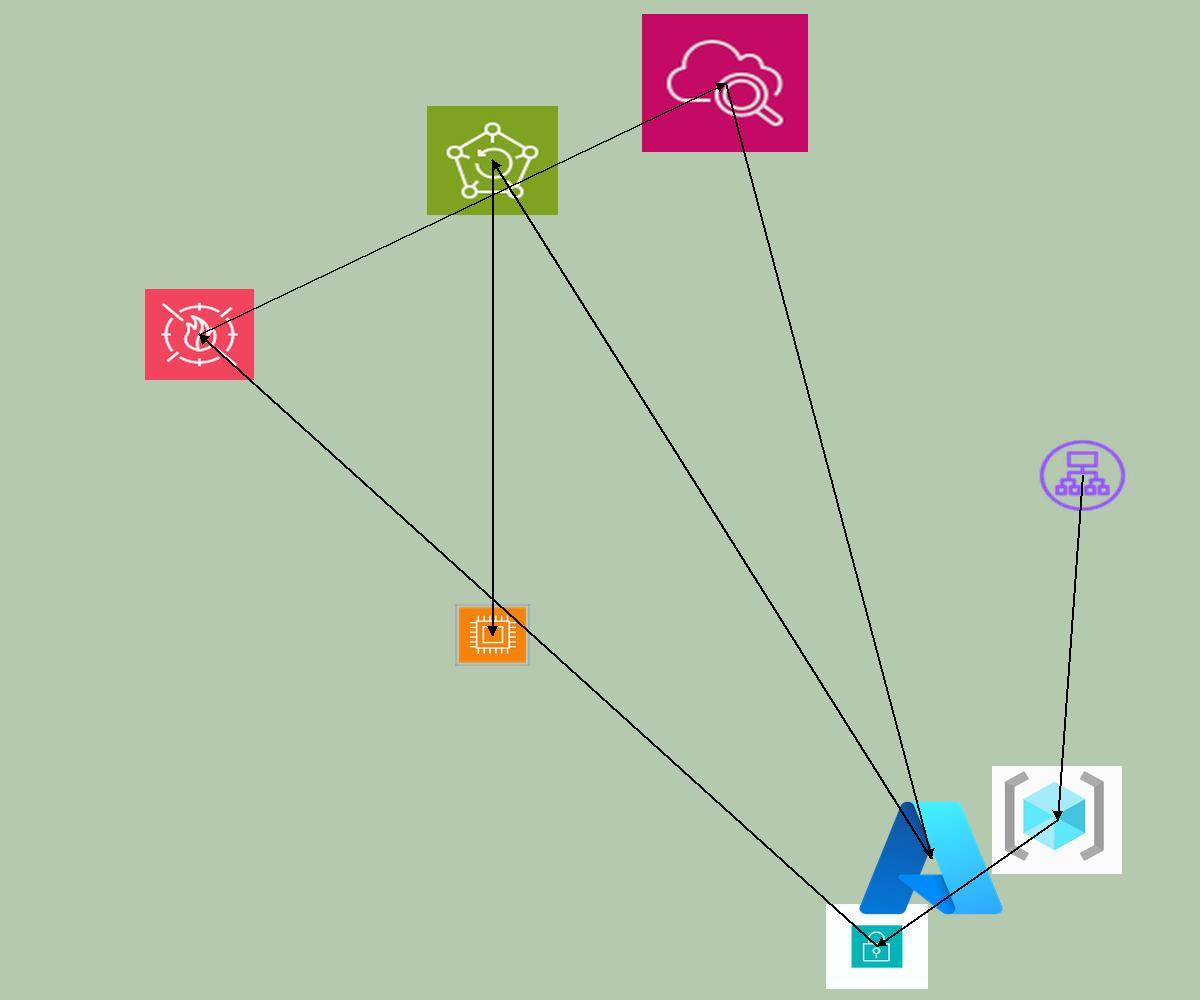AWS-Backup: (427, 106, 558, 215)
AWS-Category_Compute: (455, 604, 530, 666)
AWS-CloudWatch: (642, 14, 808, 152)
AWS-Private-subnet: (826, 904, 928, 989)
AWS-Res_Elastic-Load-Balancing_Application-Load-Balancer: (1036, 437, 1129, 514)
AWS-WAF: (145, 289, 254, 380)
Azure_resource_group: (992, 766, 1122, 874)
Azure_services: (853, 793, 1009, 923)
